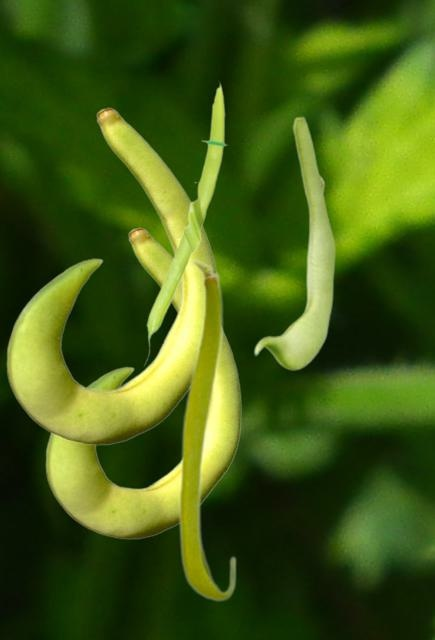french_bean: (6, 107, 218, 444), (45, 227, 241, 538), (143, 80, 227, 366), (253, 115, 334, 369), (177, 258, 236, 601)
